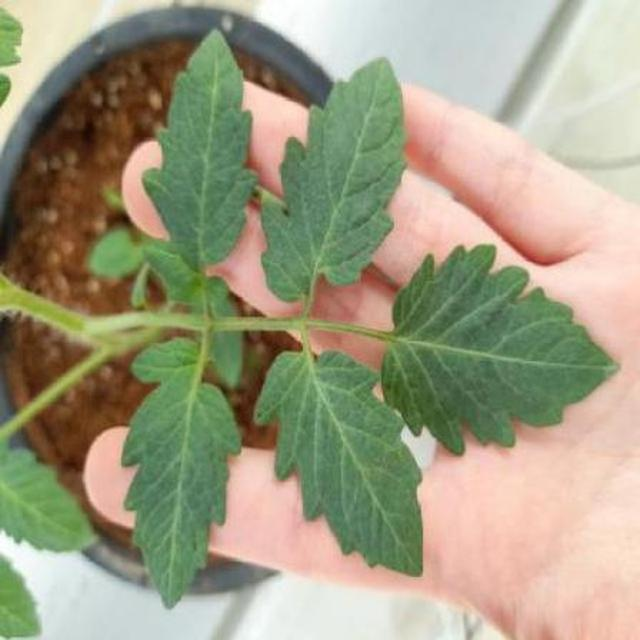Healthy Leaf: (167, 238, 640, 640)
